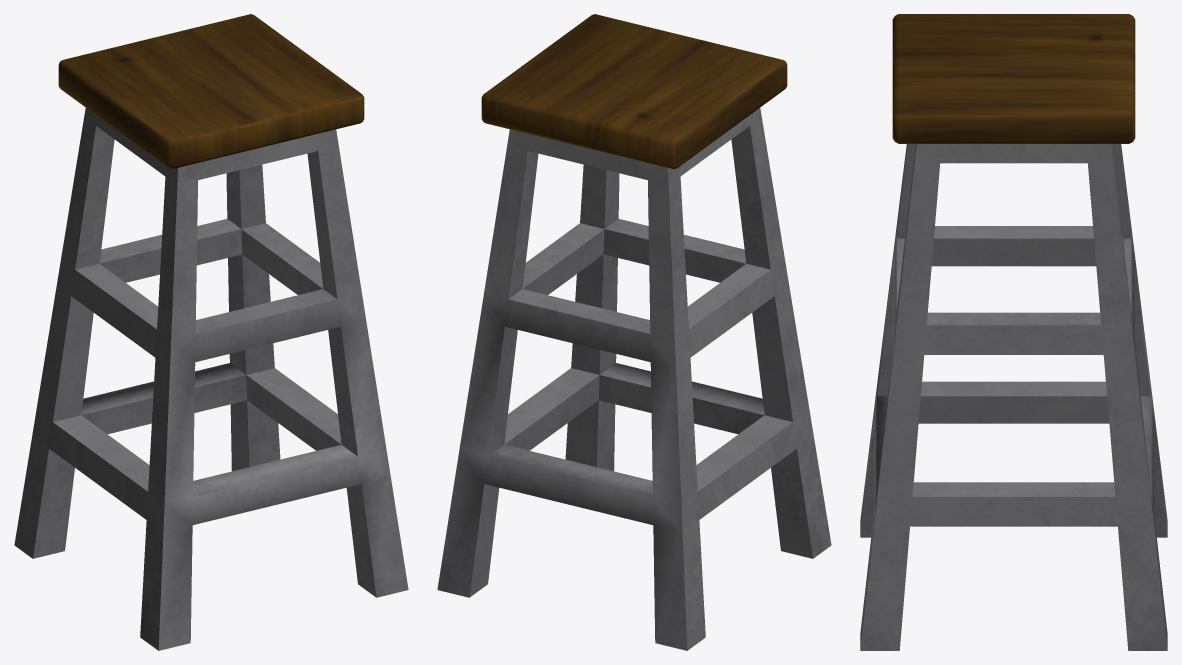
File: obj_bar_seat_73df39.glb
3 renders of one model, left to right at view 1: azimuth 30°, elevation 25°; view 2: azimuth 150°, elevation 25°; view 3: azimuth 270°, elevation 25°, orthographic. The views are drawn at different scales.
Parts seen in each view (by area): view 1: obj_bar_seat_73df39; view 2: obj_bar_seat_73df39; view 3: obj_bar_seat_73df39.
Part boxes in pixels (box(x1,y1,x2,y2)): obj_bar_seat_73df39: box(14, 14, 408, 650); obj_bar_seat_73df39: box(437, 14, 831, 650); obj_bar_seat_73df39: box(860, 14, 1167, 650).
Size of the model in its own units: 0.2396 by 0.45 by 0.2396.
1 material, 1 textured.
